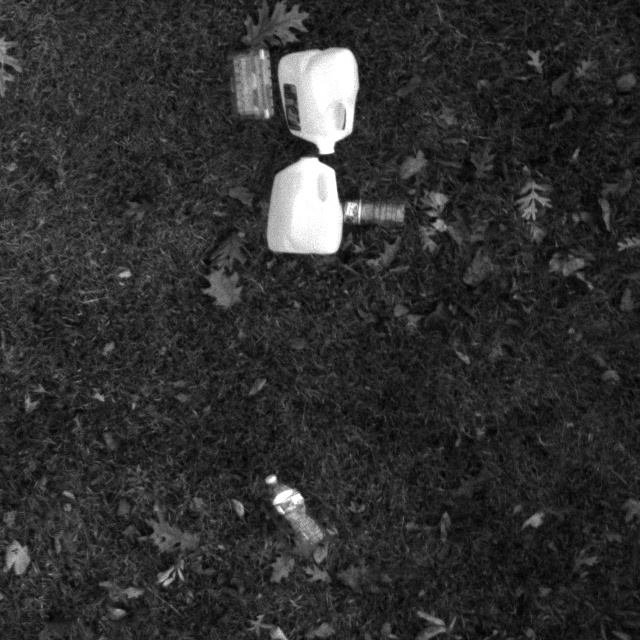bottle: (259, 457, 326, 549), (338, 195, 412, 237)
can: (267, 40, 359, 164), (257, 156, 350, 273)
container: (224, 47, 281, 130)
